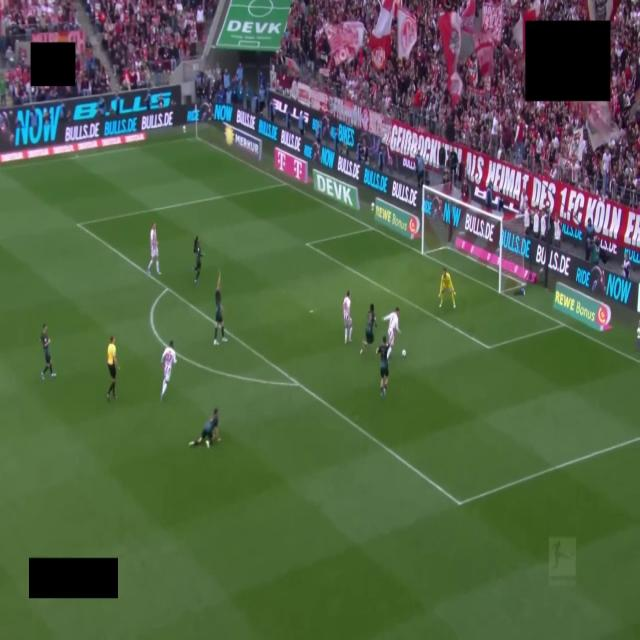ball: (402, 350, 406, 357)
player: (189, 408, 220, 447), (214, 272, 227, 345), (161, 341, 176, 400), (384, 307, 401, 359), (360, 304, 376, 354), (377, 336, 390, 397), (41, 324, 55, 379), (439, 268, 455, 308), (148, 223, 160, 274), (343, 291, 352, 343), (192, 237, 201, 283)
referee: (107, 336, 118, 400)
